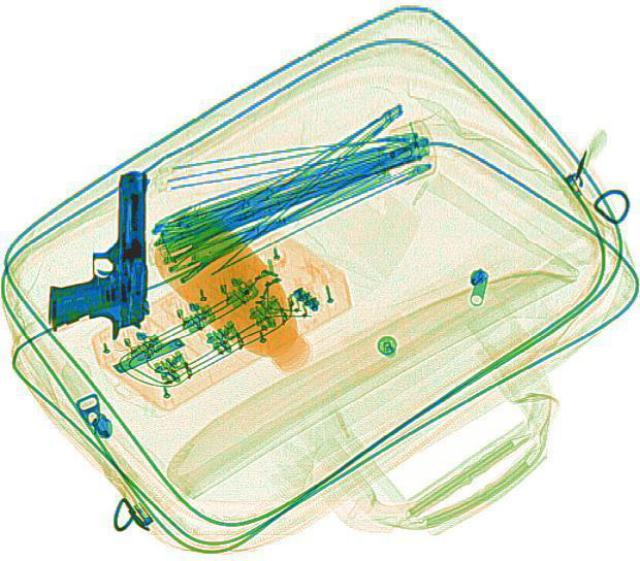Gun: (44, 170, 148, 337)
